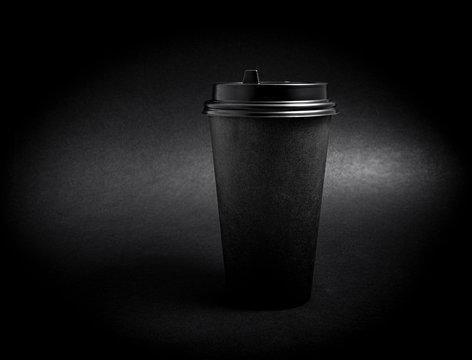cup-disposable: (201, 73, 338, 311)
